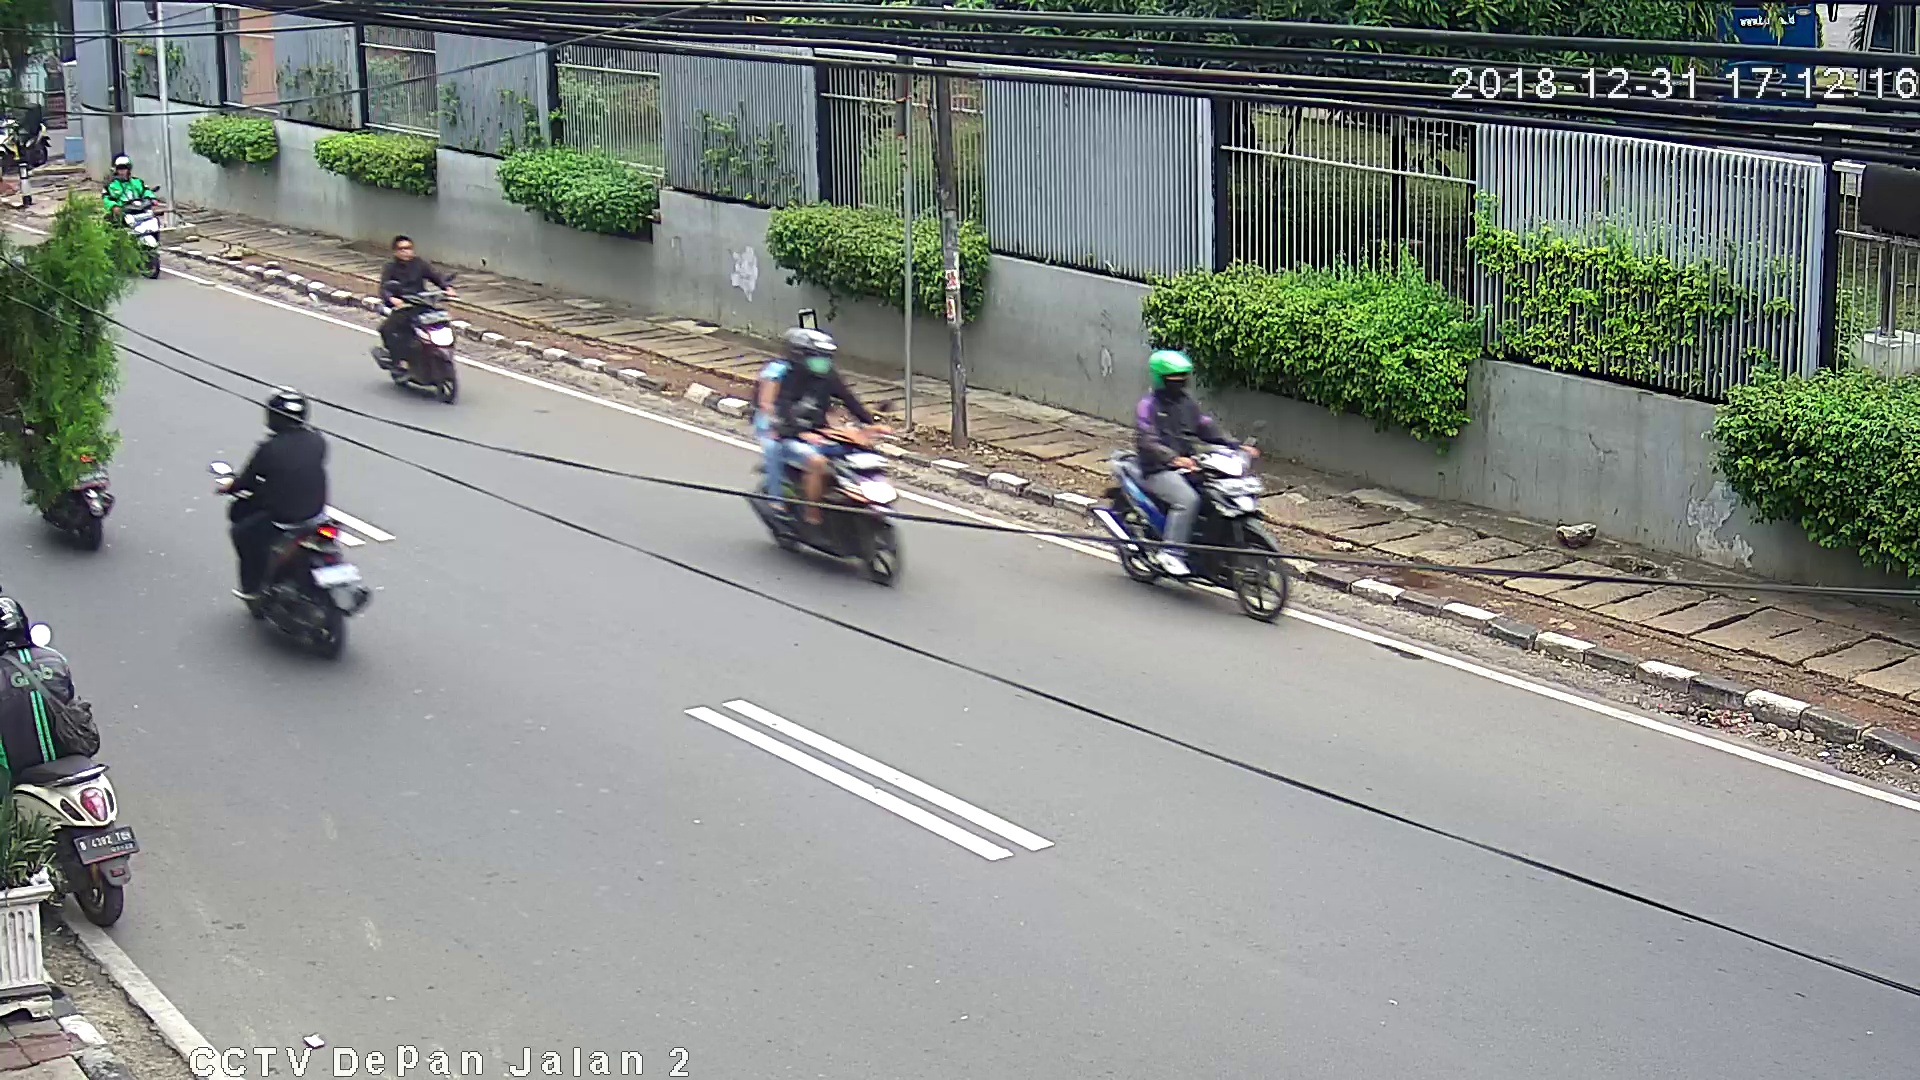motorcycle: (1095, 348, 1303, 634), (1, 589, 150, 940), (731, 323, 909, 597), (204, 389, 378, 669), (356, 227, 479, 411), (88, 154, 173, 285)
